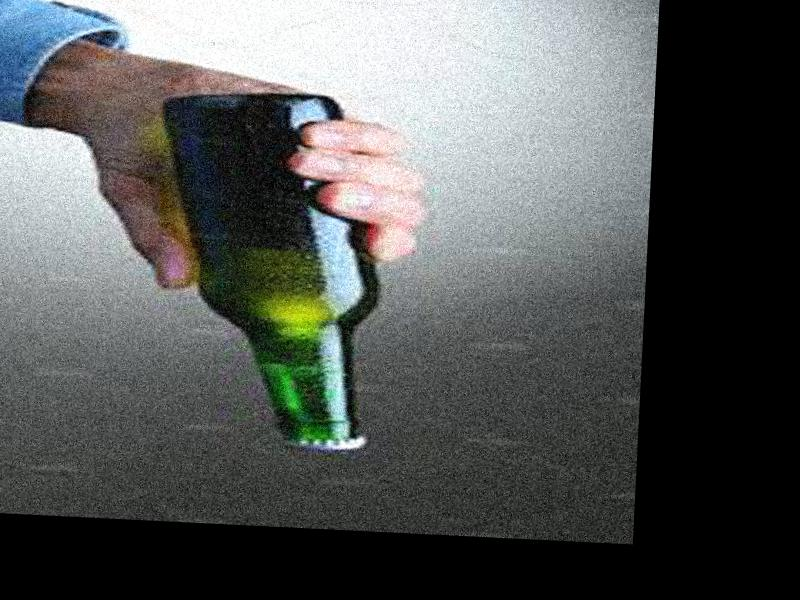Beer: (142, 85, 387, 456)
